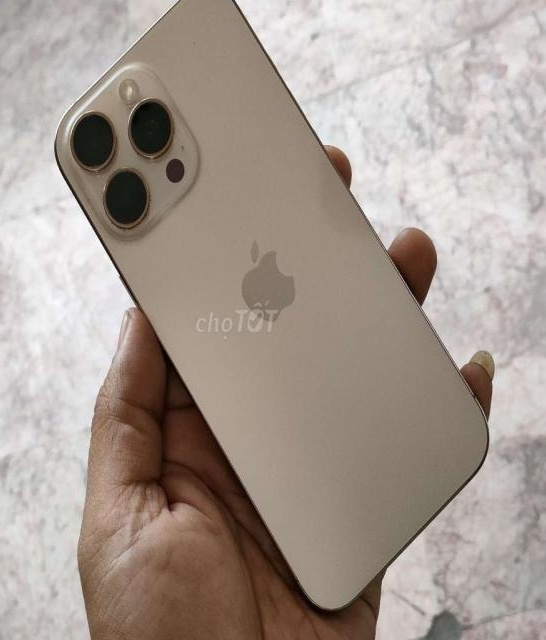scratch: (114, 235, 141, 253), (189, 37, 205, 63), (100, 81, 120, 96), (82, 190, 96, 208)
